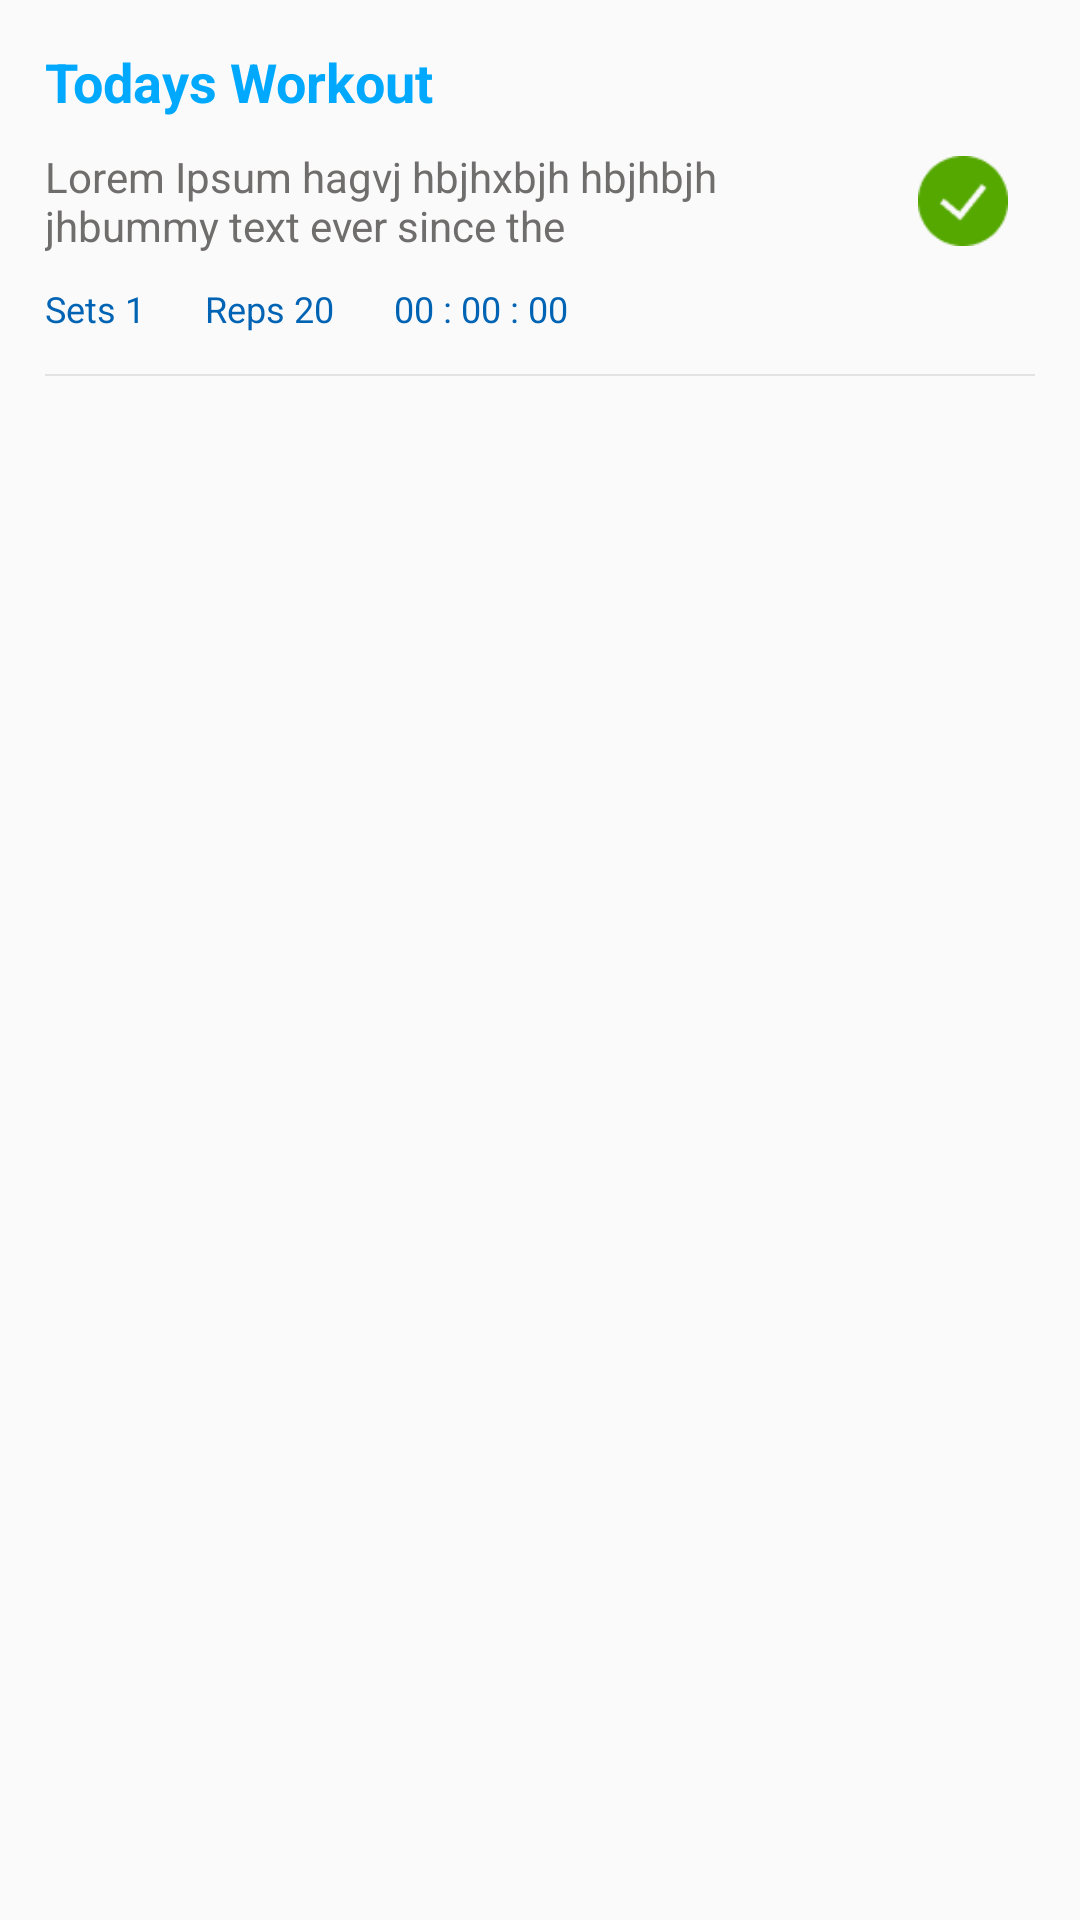

Where to tap for icons on this 1080px x 1920px app screen, as [x,y]:
tick: [963,201]
